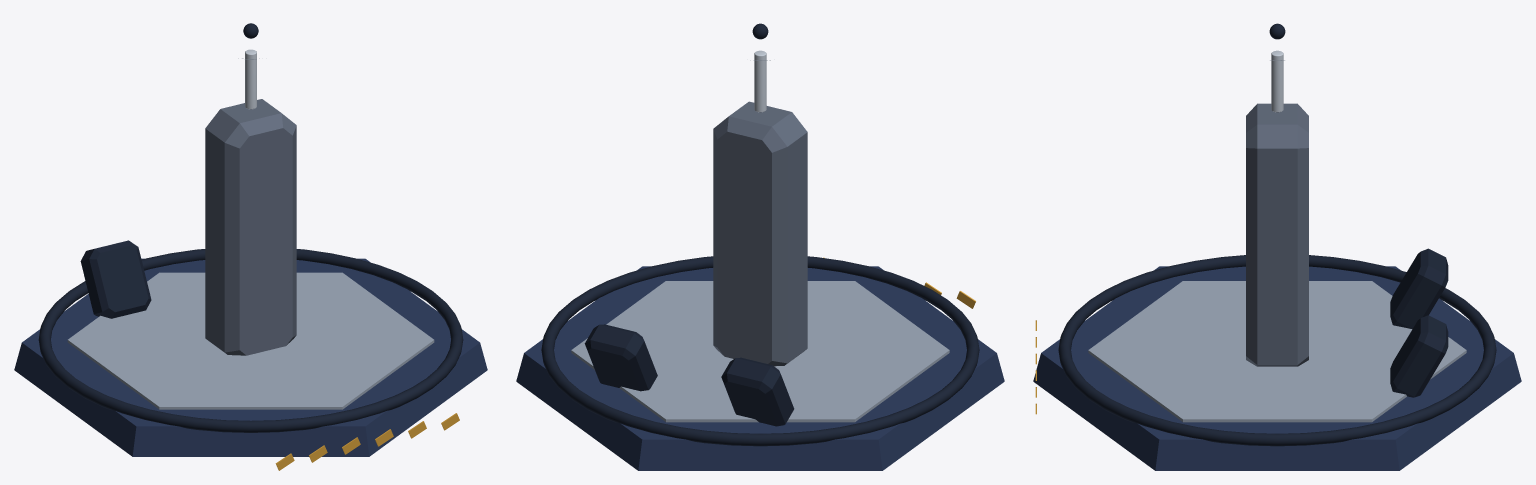
Rendered from shared_controlpoint_neutral.glb.
3 views of the same model, side by side, from view 1: azimuth 30°, elevation 25°; view 2: azimuth 150°, elevation 25°; view 3: azimuth 270°, elevation 25° (orthographic). The views are drawn at different scales.
Visible parts, largest first — view 1: cp_pad_inlay, cp_pad, cp_pylon, cp_ring, cp_console-1, cp_hazard, cp_dish_mast; view 2: cp_pad, cp_pad_inlay, cp_pylon, cp_ring, cp_console-1, cp_console1, cp_dish_mast; view 3: cp_pad_inlay, cp_pad, cp_pylon, cp_ring, cp_console1, cp_console-1, cp_dish_mast.
Part boxes in pixels (x1,y1,x2,y2): cp_pad_inlay: (67, 272, 434, 409); cp_pad: (14, 258, 487, 456); cp_pylon: (205, 99, 296, 355); cp_ring: (38, 249, 463, 432); cp_console-1: (80, 240, 151, 318); cp_hazard: (275, 413, 459, 470); cp_dish_mast: (245, 49, 256, 109); cp_pad: (516, 266, 1004, 470); cp_pad_inlay: (571, 281, 949, 422); cp_pylon: (713, 101, 807, 366); cp_ring: (541, 256, 979, 446); cp_console-1: (721, 357, 794, 426); cp_console1: (584, 324, 657, 391); cp_dish_mast: (754, 50, 766, 112); cp_pad_inlay: (1088, 281, 1466, 422); cp_pad: (1033, 266, 1521, 470); cp_pylon: (1246, 103, 1308, 366); cp_ring: (1058, 255, 1496, 446); cp_console1: (1390, 315, 1448, 397); cp_console-1: (1390, 248, 1448, 329); cp_dish_mast: (1271, 50, 1283, 112).
Bounding box in the file's own units: 2.78 × 2.5 × 3.1.
